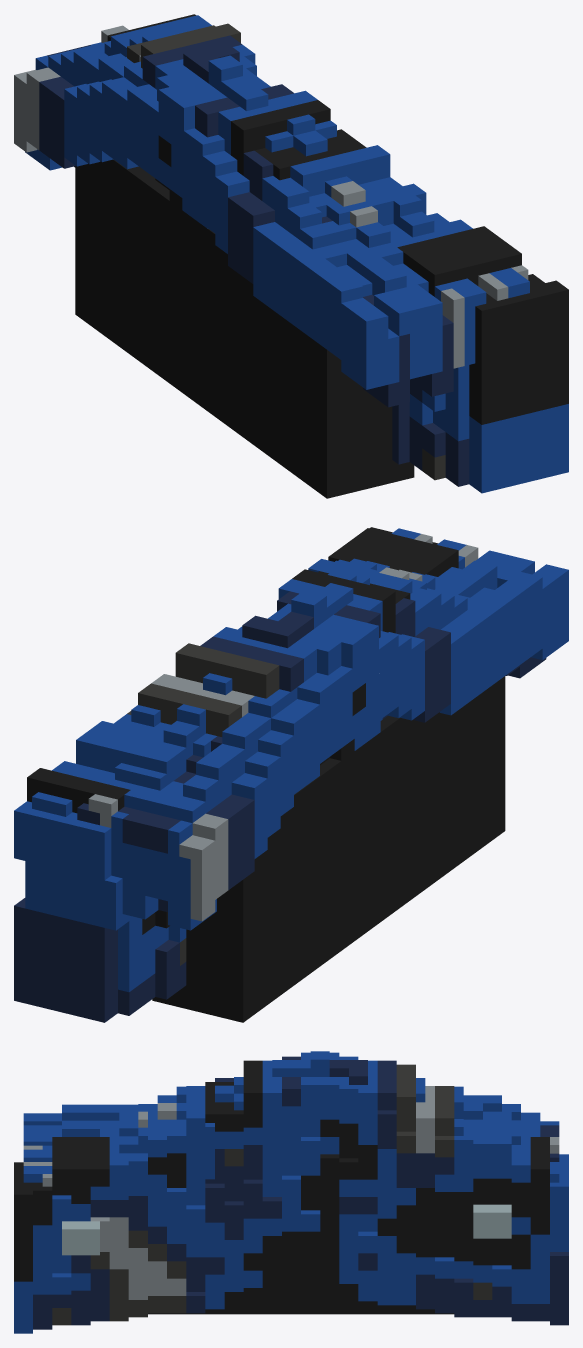
Rendered from crashed_hatchback_crushed_nose.glb.
The picture shows the model from 3 angles, top to bottom: view 1: azimuth 30°, elevation 25°; view 2: azimuth 150°, elevation 25°; view 3: azimuth 270°, elevation 25°; orthographic projection. The views are drawn at different scales.
Visible parts, largest first — view 1: body:compound; view 2: body:compound; view 3: body:compound.
Part boxes in pixels (x1,y1,x2,y2): body:compound: [14, 14, 568, 498]; body:compound: [14, 527, 568, 1022]; body:compound: [14, 1051, 568, 1333].
Size of the model in its own units: 0.5625 by 0.875 by 1.81.
